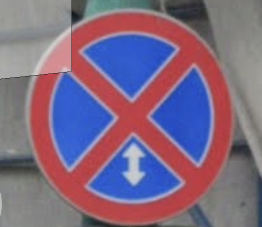oprirea_interzisa: (23, 7, 234, 224)
